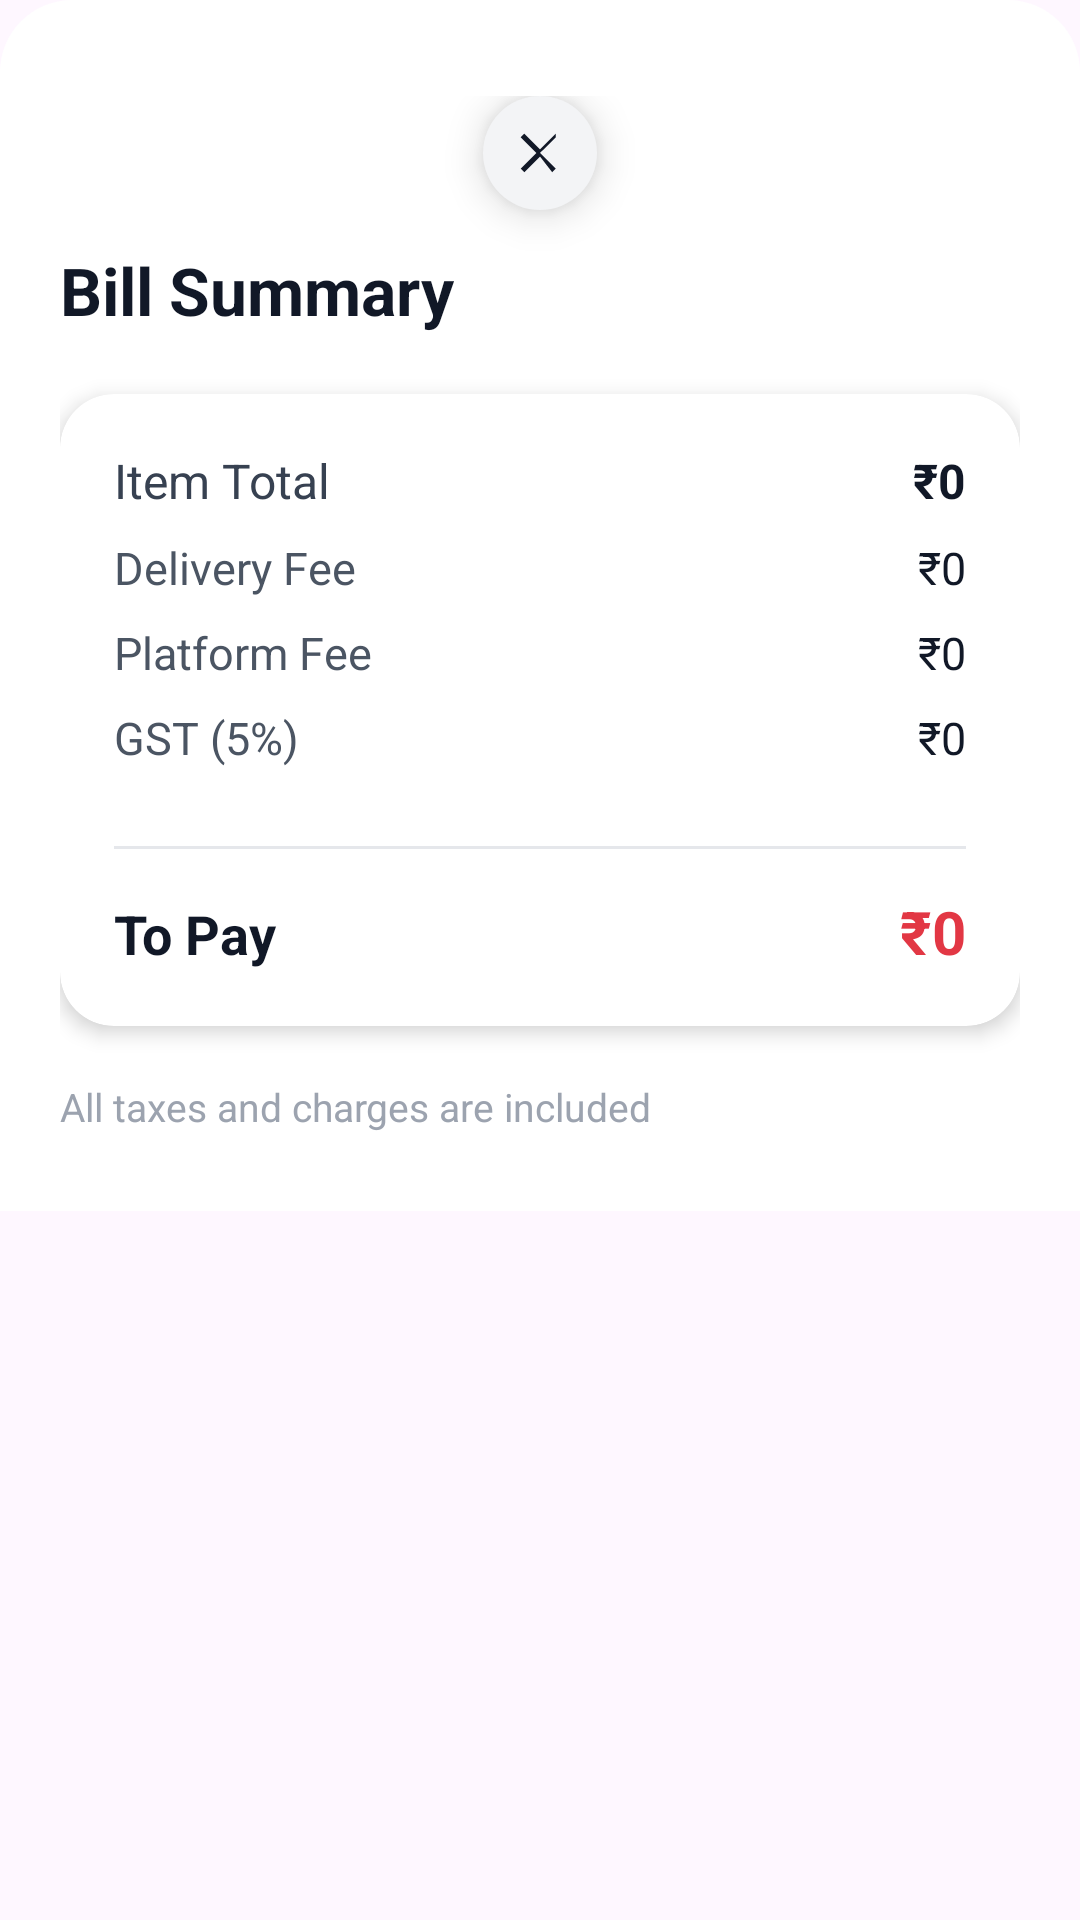

Locate icon controls on the screen. Image size 1080 x 1920, boxes as (x1, y1, x2, y2).
close: (520, 133, 556, 172)
